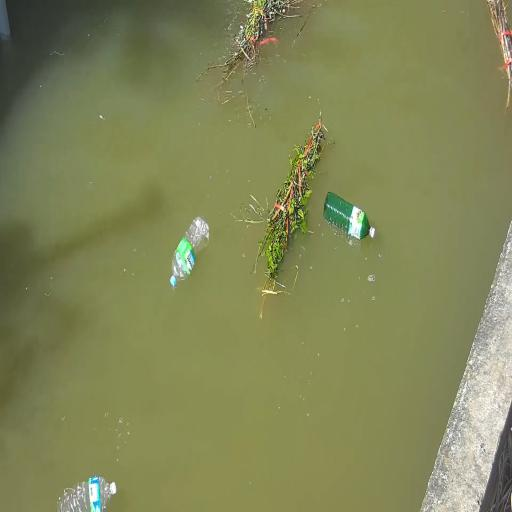plastic: (169, 214, 210, 292), (321, 189, 374, 246), (57, 475, 120, 512)
twig: (257, 123, 326, 285), (220, 0, 289, 78), (477, 0, 512, 104)
